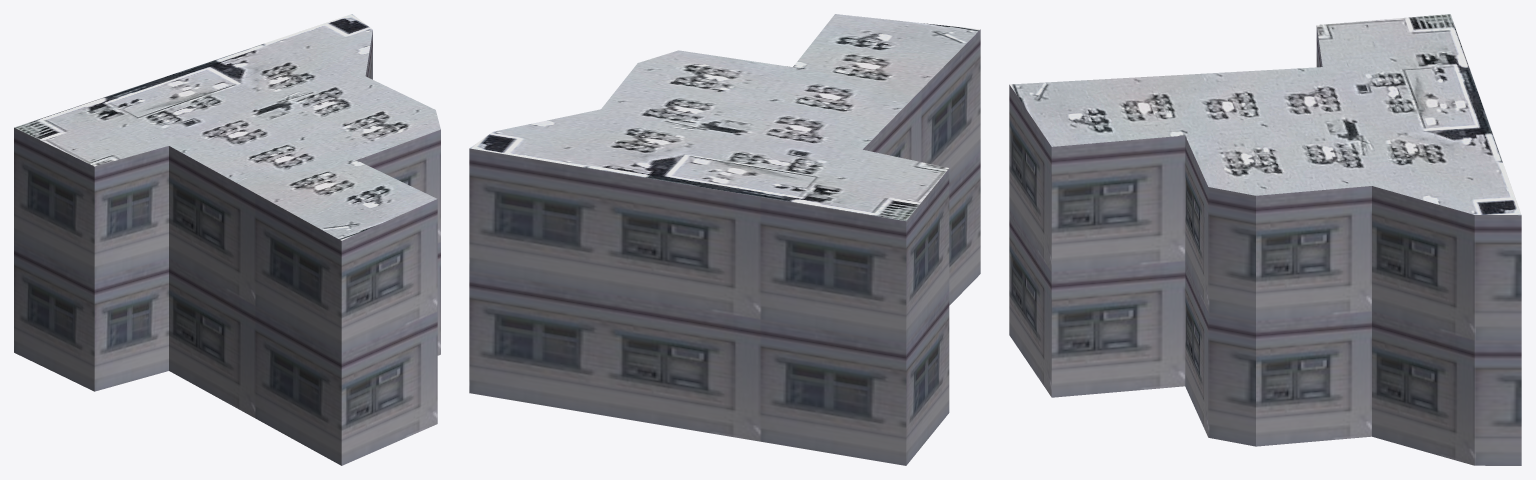
Rendered from ResTex__2634.fbx.
3 renders of one model, left to right at view 1: azimuth 30°, elevation 25°; view 2: azimuth 150°, elevation 25°; view 3: azimuth 270°, elevation 25°, orthographic. The views are drawn at different scales.
Parts seen in each view (by area): view 1: CityEngineMaterial_1_m, CityEngineMaterial_m; view 2: CityEngineMaterial_1_m, CityEngineMaterial_m; view 3: CityEngineMaterial_1_m, CityEngineMaterial_m.
Boxes of the visible parts, box(x1,y1,x2,y2) form: CityEngineMaterial_1_m: box(14, 30, 440, 465); CityEngineMaterial_m: box(14, 14, 440, 240); CityEngineMaterial_1_m: box(469, 29, 980, 465); CityEngineMaterial_m: box(470, 14, 979, 220); CityEngineMaterial_1_m: box(1009, 26, 1521, 465); CityEngineMaterial_m: box(1009, 14, 1521, 215).
Size of the model in its own units: 10.32 by 6 by 11.1.
2 materials, 2 textured.
